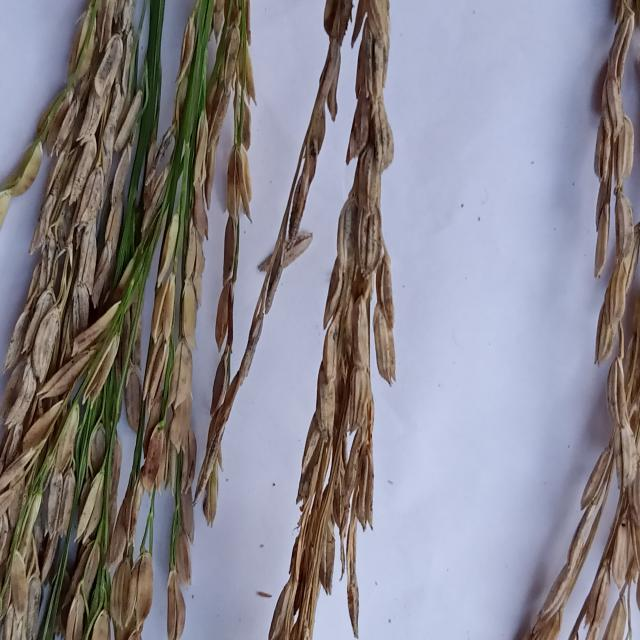Neck_Blast: (0, 0, 150, 640), (262, 2, 401, 640), (197, 0, 353, 522), (514, 0, 640, 640), (96, 274, 199, 640)
